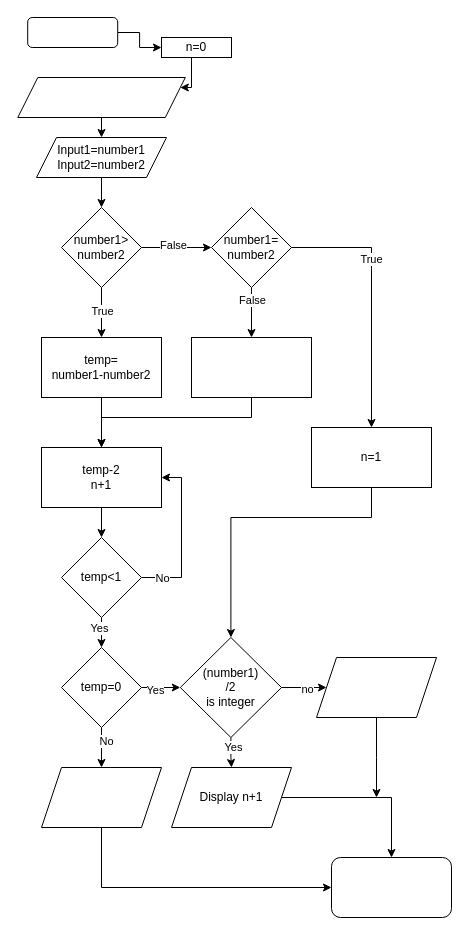
This 469x935 diagram has some shape labels left out. Each missing label, with the box of its shape:
display n: (40, 766, 162, 828)
Display n-1: (316, 656, 436, 718)
End: (330, 856, 452, 918)
Print "Please enter two numbers": (17, 76, 185, 118)
Start: (27, 16, 118, 48)
temp= number2-number1: (190, 336, 312, 398)
